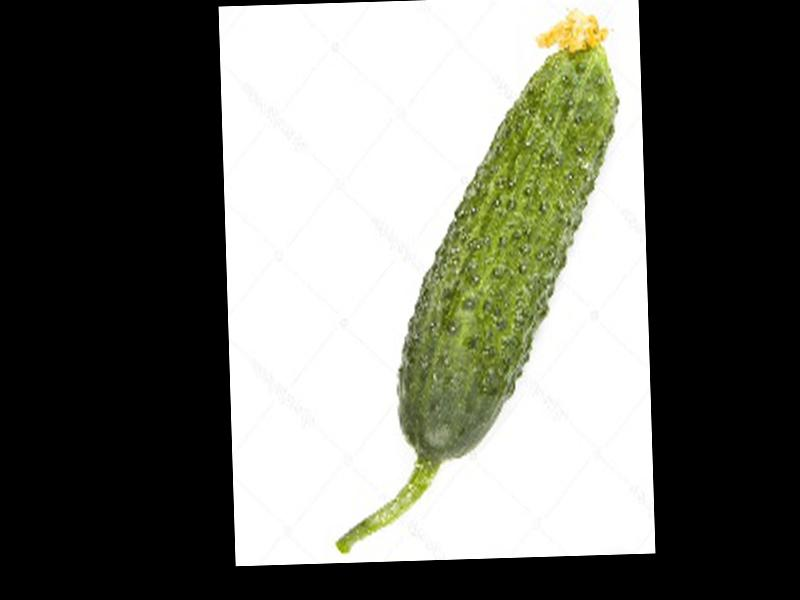Cucumber: (320, 6, 633, 552)
